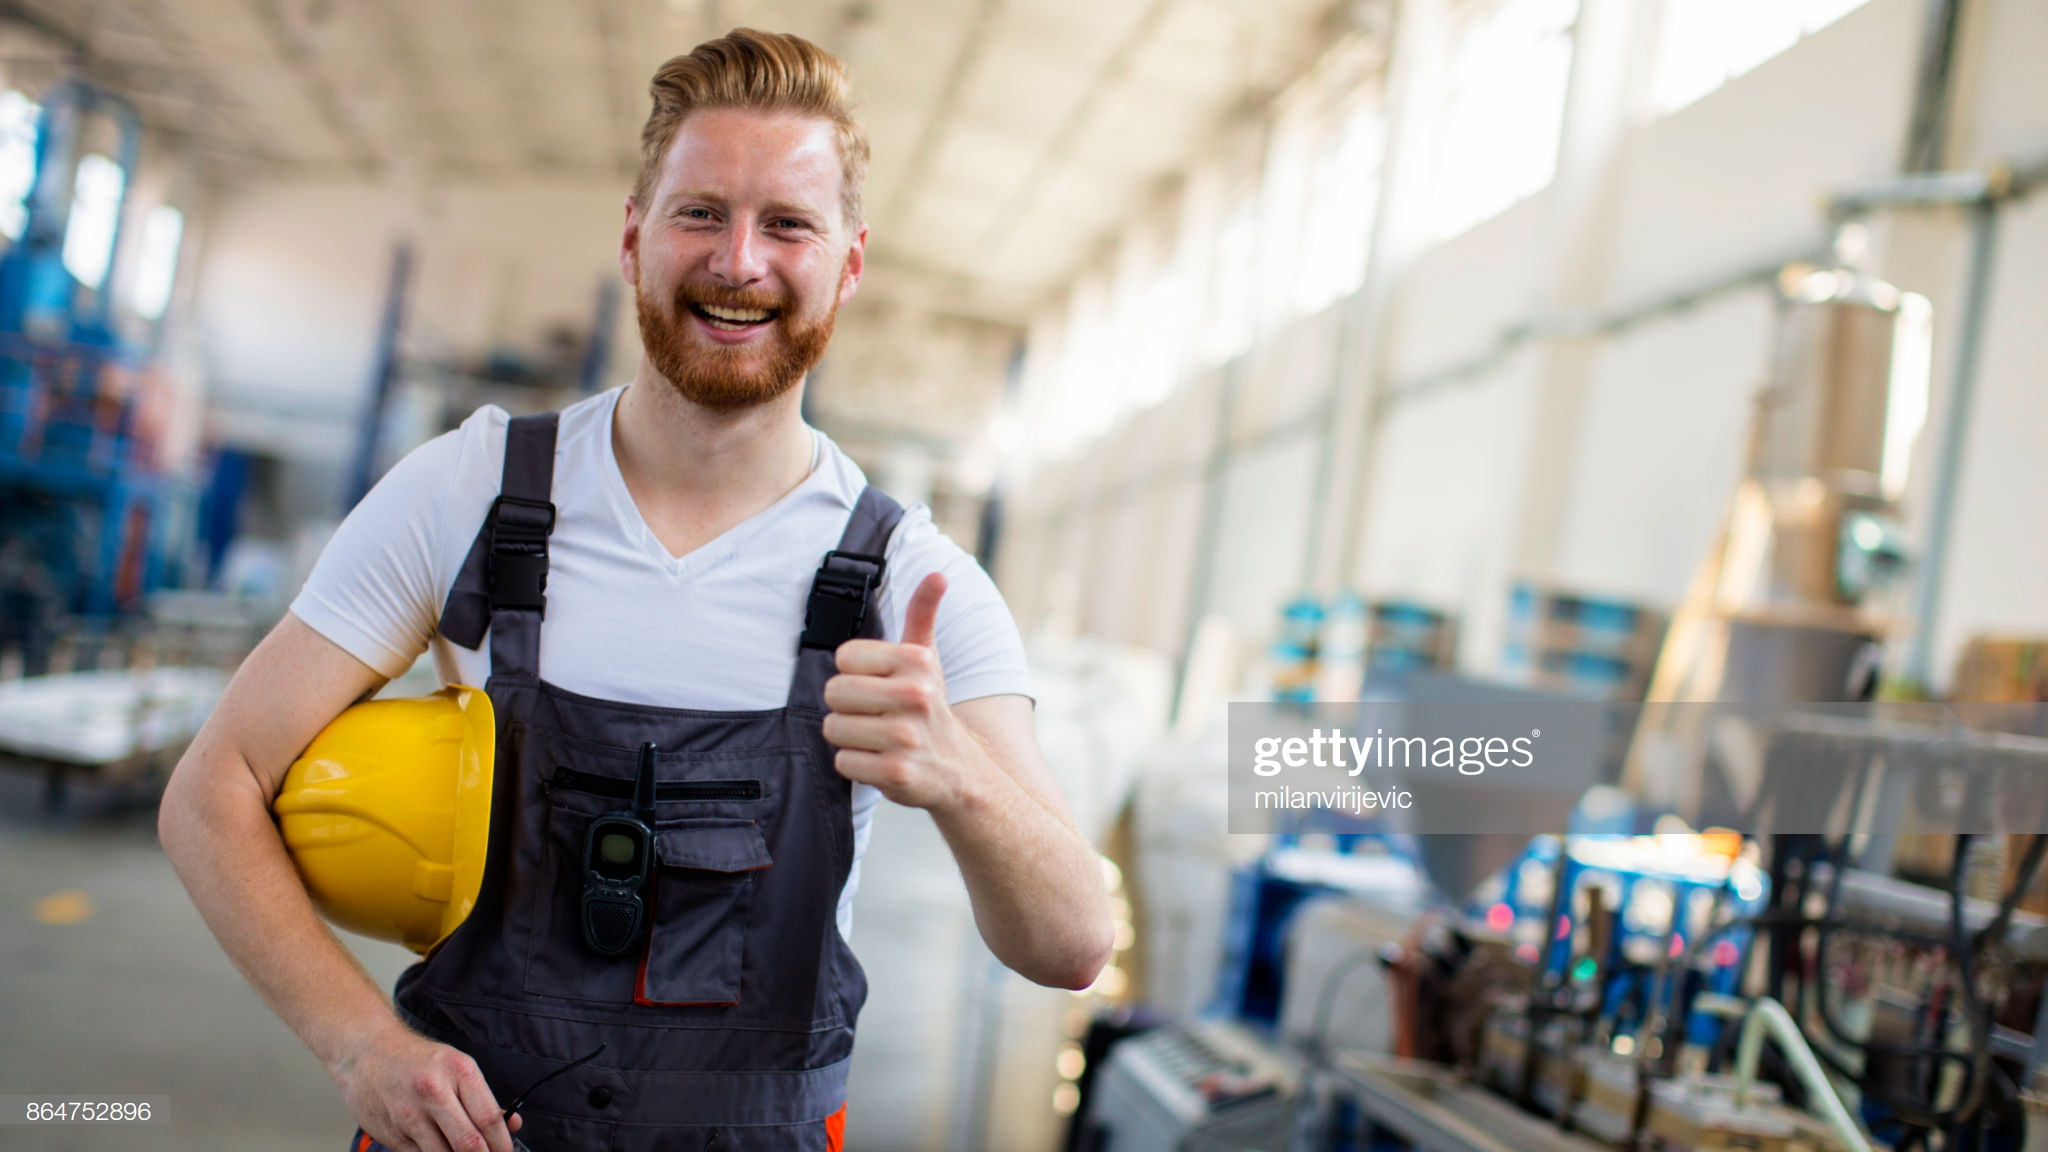thumbsup: (821, 572, 951, 791)
